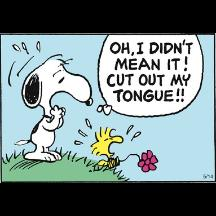snoopy: (14, 54, 94, 162)
